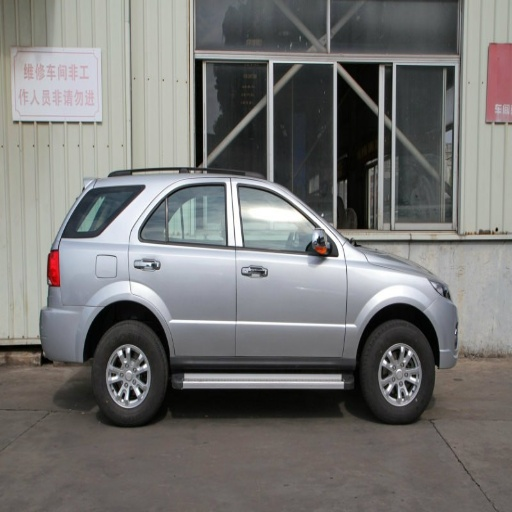back_bumper: (39, 308, 92, 356)
back_right_door: (130, 177, 235, 360)
front_right_door: (235, 180, 344, 368)
